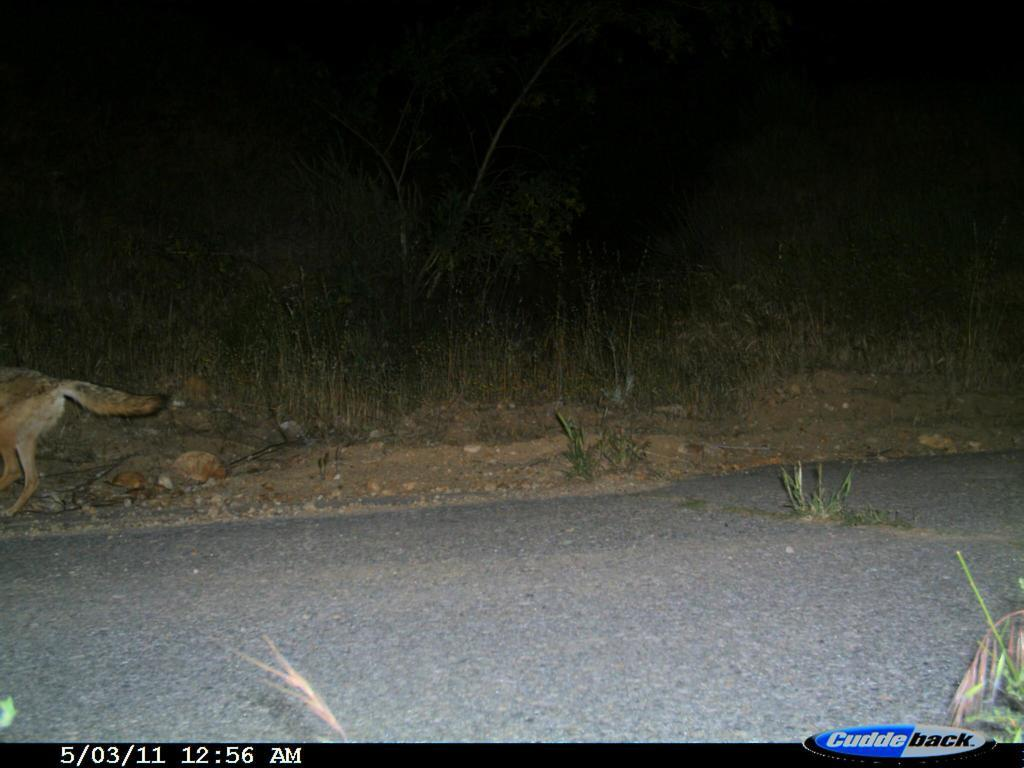coyote: (1, 364, 191, 518)
